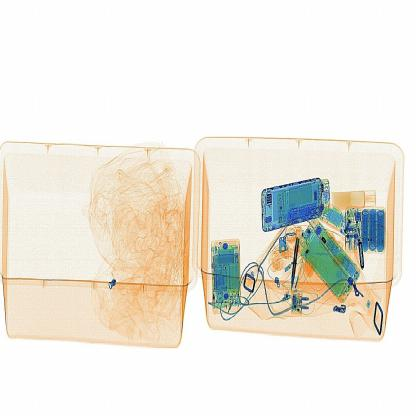gun: (288, 216, 309, 302)
